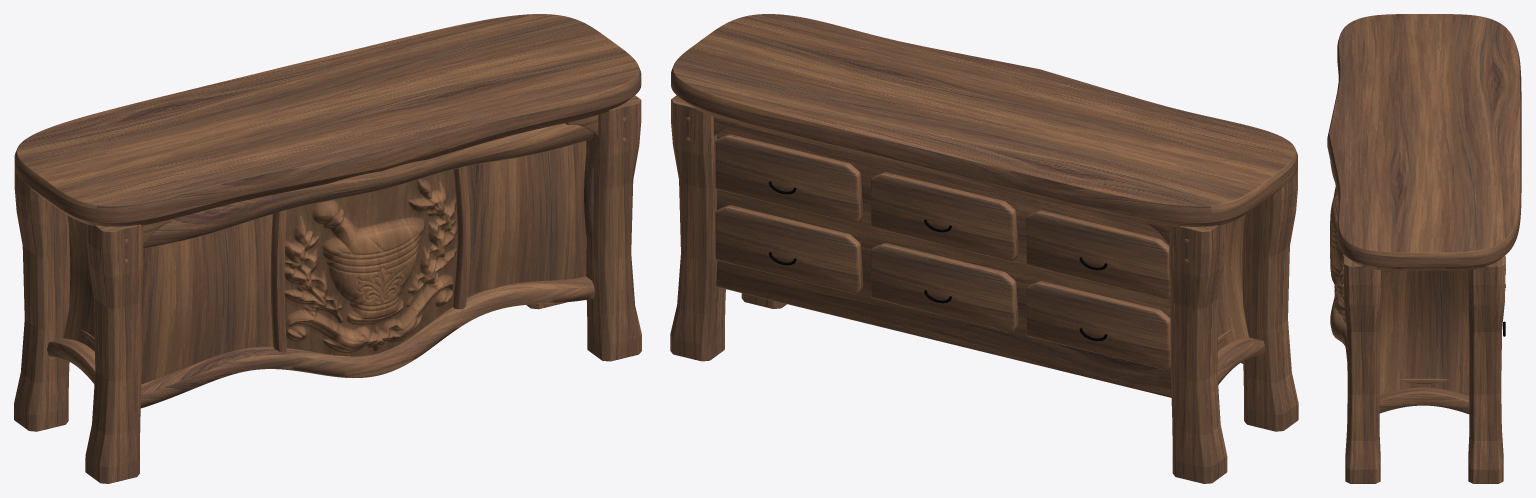
The model's file is CM_CW09_HeroCounter.fbx.
The picture shows the model from 3 angles, left to right: view 1: azimuth 30°, elevation 25°; view 2: azimuth 150°, elevation 25°; view 3: azimuth 270°, elevation 25°; orthographic projection. The views are drawn at different scales.
Parts seen in each view (by area): view 1: CM_CW09_HeroCounter; view 2: CM_CW09_HeroCounter; view 3: CM_CW09_HeroCounter.
Boxes of the visible parts, x1,y1,x2,y2 form: CM_CW09_HeroCounter: [14, 14, 641, 483]; CM_CW09_HeroCounter: [670, 14, 1298, 483]; CM_CW09_HeroCounter: [1327, 14, 1521, 483].
Size of the model in its own units: 2.28 by 1.05 by 0.78.
